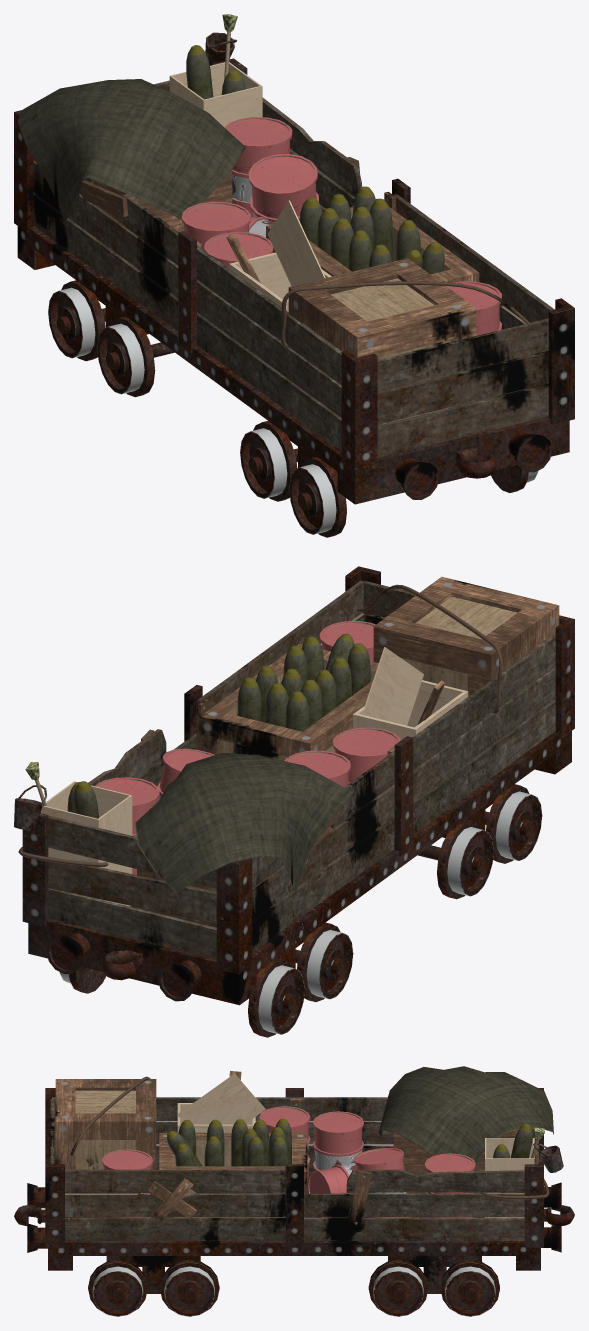
File: 1_Resuorses_wagon.fbx
3 views of the same model, one above another, from view 1: azimuth 30°, elevation 25°; view 2: azimuth 150°, elevation 25°; view 3: azimuth 270°, elevation 25° (orthographic). The views are drawn at different scales.
Parts seen in each view (by area): view 1: Cube, ________010, ________010.002, ________010.003, ________010.001; view 2: Cube, ________010.003, ________010.001, ________010.002, ________010; view 3: Cube, ________010.002, ________010.003, ________010.001, ________010.
Part boxes in pixels (x1,y1,x2,y2): Cube: [14, 14, 574, 504]; ________010: [289, 457, 538, 537]; ________010.002: [97, 316, 174, 397]; ________010.003: [48, 280, 105, 361]; ________010.001: [240, 421, 297, 501]; Cube: [14, 566, 574, 1005]; ________010.003: [59, 958, 304, 1037]; ________010.001: [418, 819, 493, 899]; ________010.002: [295, 922, 353, 1001]; ________010: [485, 784, 542, 863]; Cube: [14, 1066, 574, 1293]; ________010.002: [368, 1259, 428, 1316]; ________010.003: [440, 1259, 499, 1316]; ________010.001: [160, 1259, 219, 1316]; ________010: [88, 1259, 147, 1316].
Bounding box in the file's own units: 277 × 282 × 745.
1 material, 1 textured.
